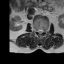CCS_normal: (39, 27, 41, 36)
LFS_normal: (43, 28, 45, 33)
LLS_normal: (41, 28, 43, 34)
RFS_normal: (36, 27, 38, 33)
RLS_normal: (38, 28, 39, 33)
